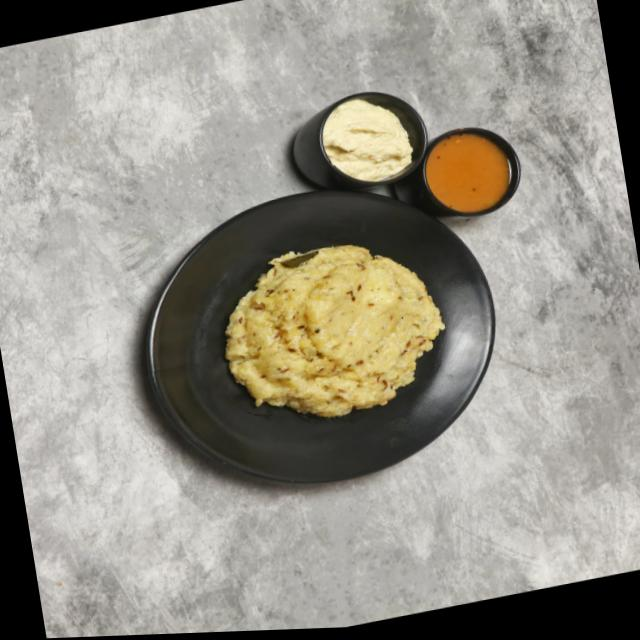PONGAL: (156, 202, 441, 448)
SAMBAR: (410, 114, 553, 223)
WHITE CHUTNEY: (298, 76, 437, 190)
